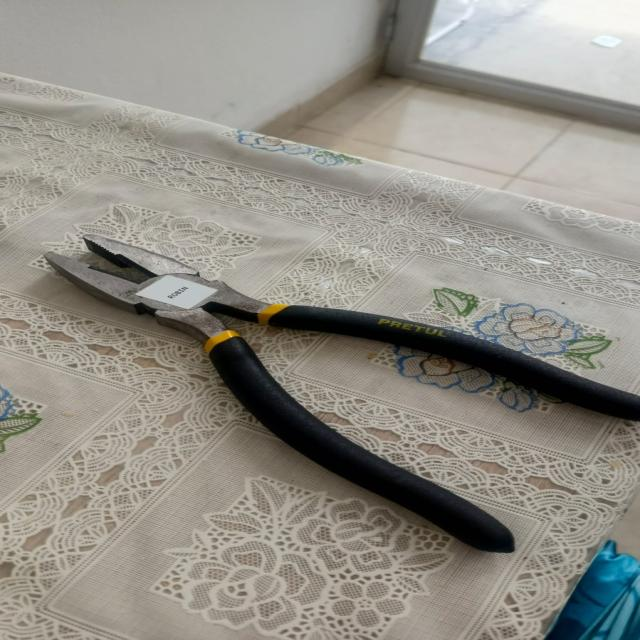alicate: (23, 219, 640, 571)
